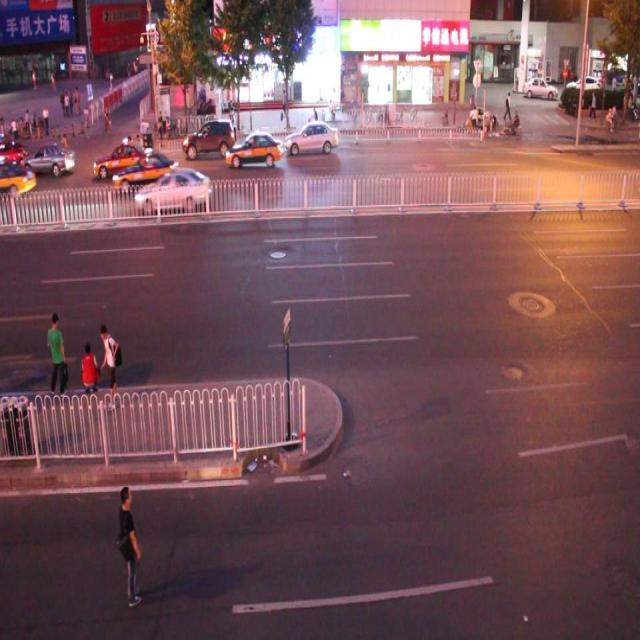car: (134, 164, 210, 214), (113, 151, 176, 193), (181, 119, 236, 160), (93, 142, 150, 180), (22, 140, 77, 178), (224, 132, 282, 168), (284, 120, 338, 157), (1, 153, 36, 195), (1, 135, 26, 168)
